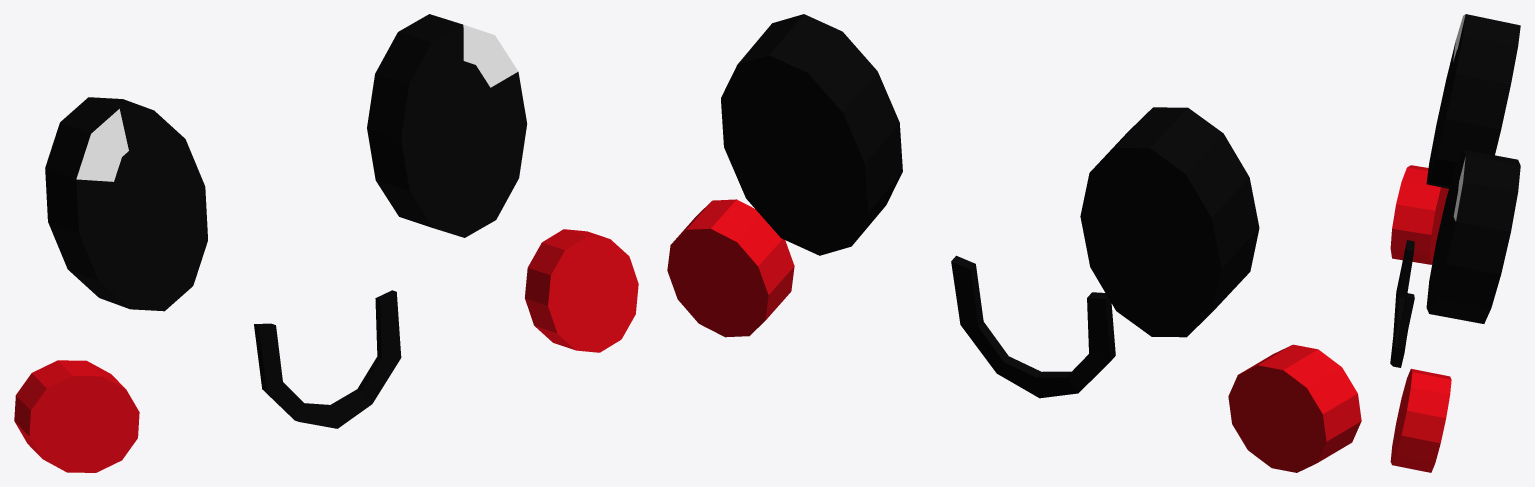
Rendered from Carita.fbx.
3 views of the same model, side by side, from view 1: azimuth 30°, elevation 25°; view 2: azimuth 150°, elevation 25°; view 3: azimuth 270°, elevation 25° (orthographic). The views are drawn at different scales.
Parts seen in each view (by area): view 1: MojaCarita; view 2: MojaCarita; view 3: MojaCarita.
Boxes of the visible parts, bbox=[...] form: MojaCarita: bbox=[14, 14, 638, 472]; MojaCarita: bbox=[667, 14, 1361, 472]; MojaCarita: bbox=[1390, 14, 1520, 472].
Size of the model in its own units: 72.24 by 37.93 by 16.03.
